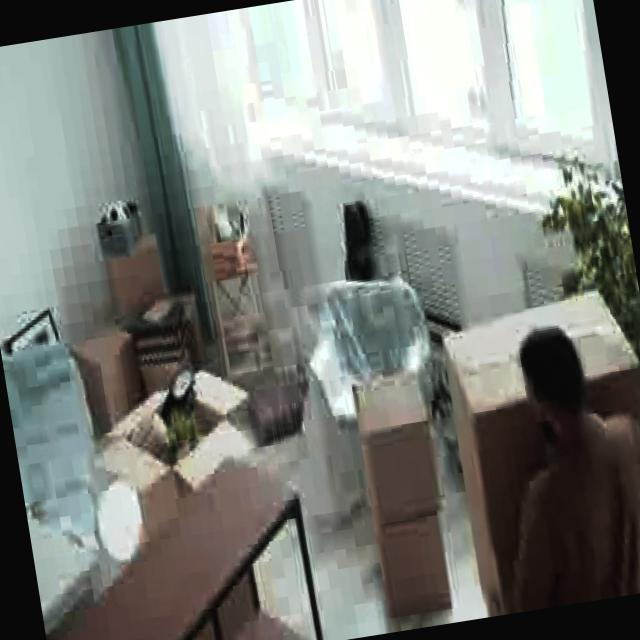Box: (355, 391, 439, 521), (378, 512, 456, 610), (72, 318, 141, 422), (106, 235, 164, 310)
